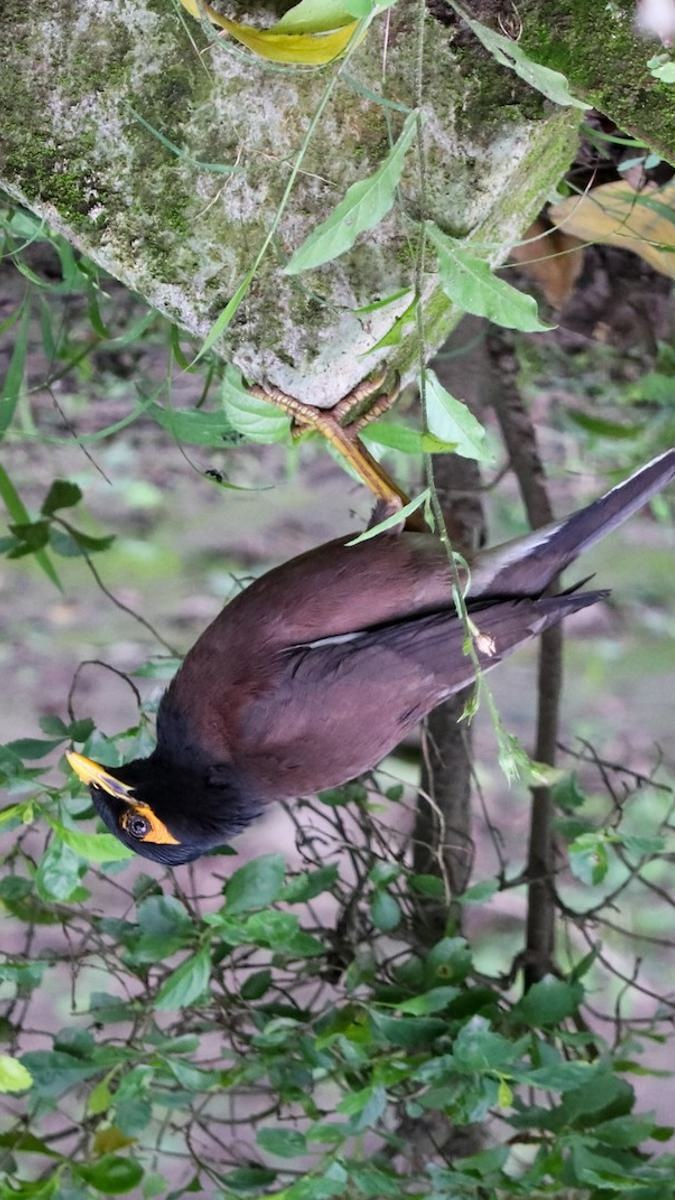myna: (50, 430, 675, 883)
